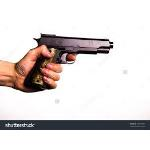Pistol: (26, 31, 114, 91)
